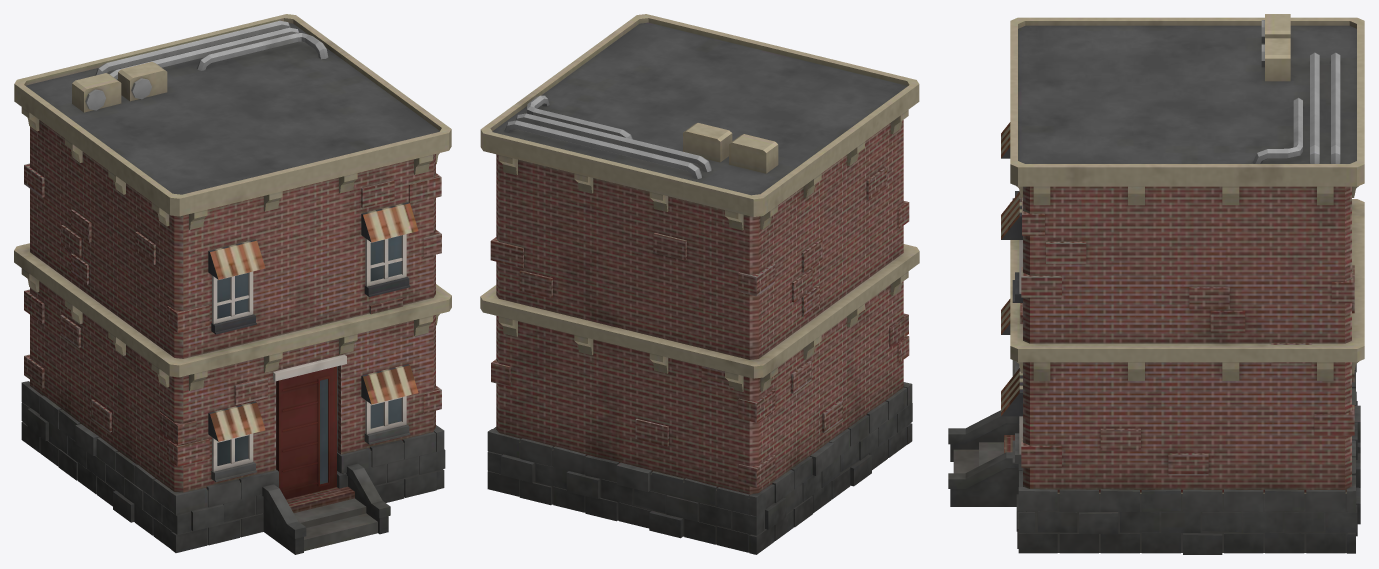
The model's file is building_2Story.glb.
The picture shows the model from 3 angles, left to right: view 1: azimuth 30°, elevation 25°; view 2: azimuth 150°, elevation 25°; view 3: azimuth 270°, elevation 25°; orthographic projection. The views are drawn at different scales.
Visible parts, largest first — view 1: 2Story_medium; view 2: 2Story_medium; view 3: 2Story_medium.
Boxes of the visible parts, bbox=[...] form: 2Story_medium: bbox=[14, 14, 451, 554]; 2Story_medium: bbox=[480, 14, 919, 554]; 2Story_medium: bbox=[948, 14, 1364, 554].
Size of the model in its own units: 2.16 by 2.75 by 2.53.
Materials: 2 (2 with a texture image).
